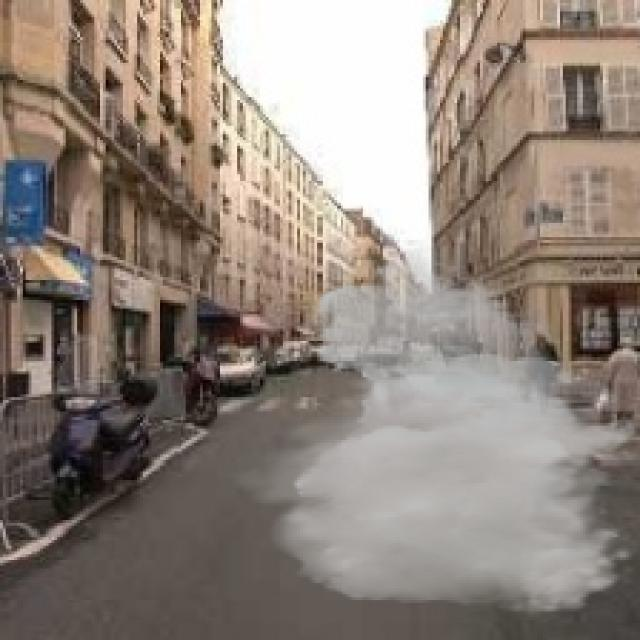smoke: (226, 237, 637, 617)
